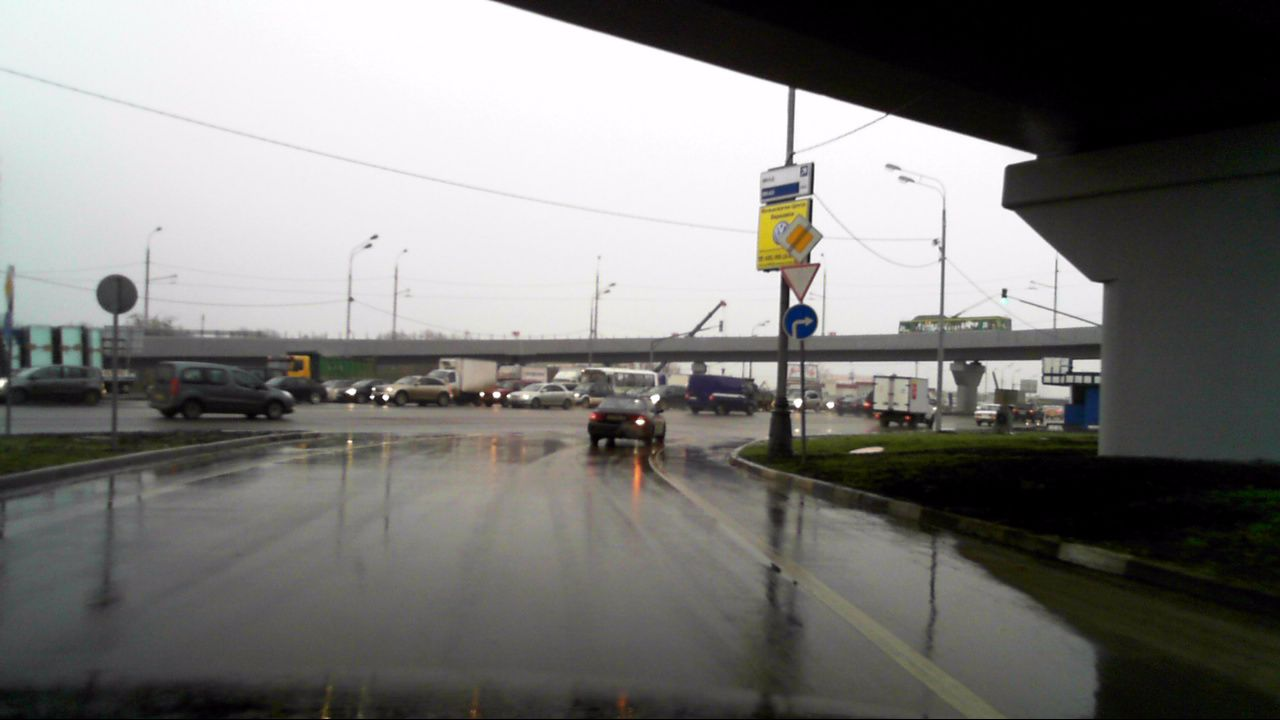main road: (780, 214, 823, 262)
